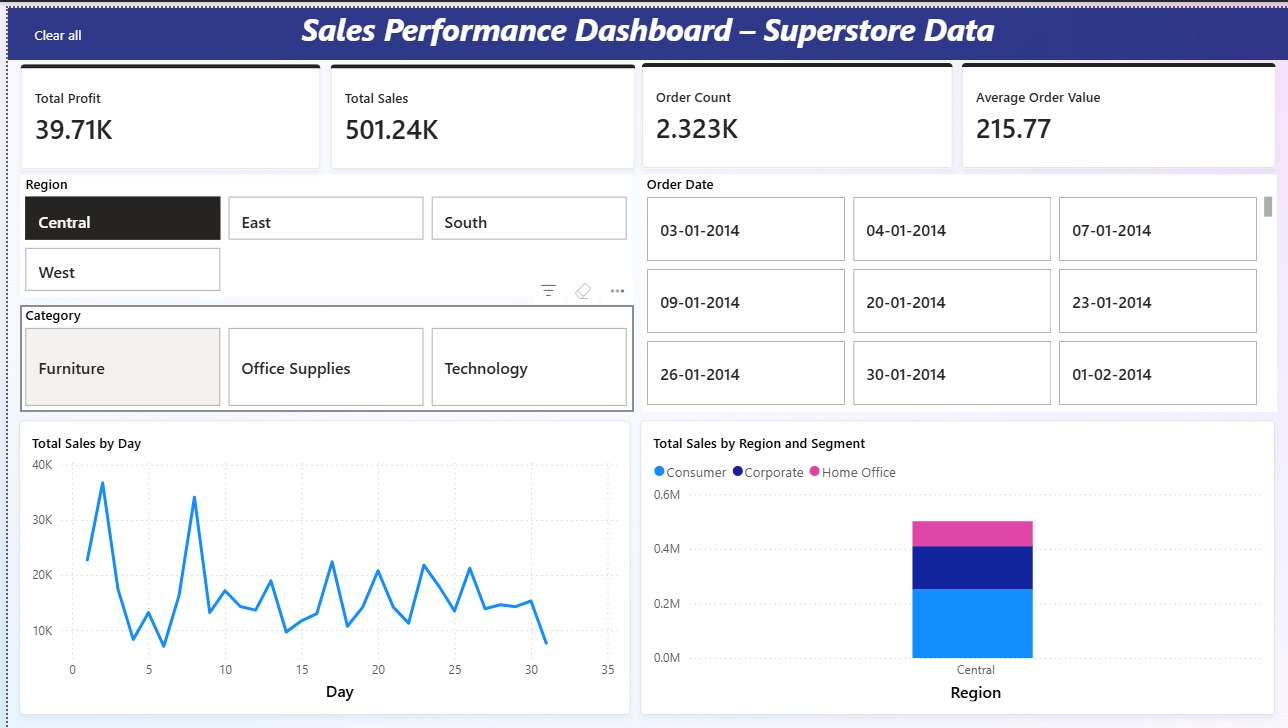

This screenshot's page, from the dashboard's own definition file:
{"tool":"powerbi","page":{"name":"Top 10 products based on total sales.","canvas":[1280,720],"ordinal":1},"visuals":[{"type":"advancedSlicerVisual","fields":{"Values":["Orders.Region"]},"box":[12.5,166.2,611.2,122.5],"z":0},{"type":"advancedSlicerVisual","fields":{"Values":["Orders.Category"]},"box":[12.5,297.5,612.5,106.2],"z":2000},{"type":"textbox","title":"Sales Performance Dashboard – Superstore Data","box":[0,0,1280,51.7],"z":3000},{"type":"cardVisual","fields":{"Data":["Orders.Total Profit"]},"box":[12.5,56,300.7,105.7],"z":3000,"group":"g1"},{"type":"cardVisual","fields":{"Data":["Orders.Total Sales"]},"box":[322.3,55.7,305.7,105],"z":4000,"group":"g1"},{"type":"advancedSlicerVisual","fields":{"Values":["Orders.Order Date"]},"box":[633.8,166.2,635,237.5],"z":4000},{"type":"cardVisual","fields":{"Data":["Orders.Order Count"]},"box":[634.2,55.1,311.3,105.6],"z":5000,"group":"g1"},{"type":"lineChart","fields":{"Category":["Orders.Order Date.Variation.Date Hierarchy.Day"],"Y":["Orders.Total Sales"]},"box":[11.4,412.9,611.4,294.3],"z":5000},{"type":"cardVisual","fields":{"Data":["Orders.Average Order Value"]},"box":[954.1,55,315,105.6],"z":6000,"group":"g1"},{"type":"columnChart","fields":{"Category":["Orders.Region"],"Series":["Orders.Segment"],"Y":["Orders.Total Sales"]},"box":[632.9,412.9,634.3,294.3],"z":6000},{"type":"group","id":"g1","title":"Group 2","box":[12.5,55,1256.2,106.2],"z":7000},{"type":"actionButton","box":[0,6.2,100,40],"z":8000}]}

Visuals, with their boxes in screenshot pixels (x1, y1, x2, y2), scaled from the page's 1280x720 canvas onto the 1288x728 screenshot:
advancedSlicerVisual - Orders.Region: [x1=13, y1=168, x2=628, y2=292]
advancedSlicerVisual - Orders.Category: [x1=13, y1=301, x2=629, y2=408]
"Sales Performance Dashboard – Superstore Data" textbox: [x1=0, y1=0, x2=1287, y2=52]
cardVisual - Orders.Total Profit: [x1=13, y1=57, x2=315, y2=163]
cardVisual - Orders.Total Sales: [x1=324, y1=56, x2=632, y2=162]
advancedSlicerVisual - Orders.Order Date: [x1=638, y1=168, x2=1277, y2=408]
cardVisual - Orders.Order Count: [x1=638, y1=56, x2=951, y2=162]
lineChart - Orders.Order Date.Variation.Date Hierarchy.Day x Orders.Total Sales: [x1=11, y1=417, x2=627, y2=715]
cardVisual - Orders.Average Order Value: [x1=960, y1=56, x2=1277, y2=162]
columnChart - Orders.Region x Orders.Segment: [x1=637, y1=417, x2=1275, y2=715]
"Group 2" group: [x1=13, y1=56, x2=1277, y2=163]
actionButton: [x1=0, y1=6, x2=101, y2=47]
